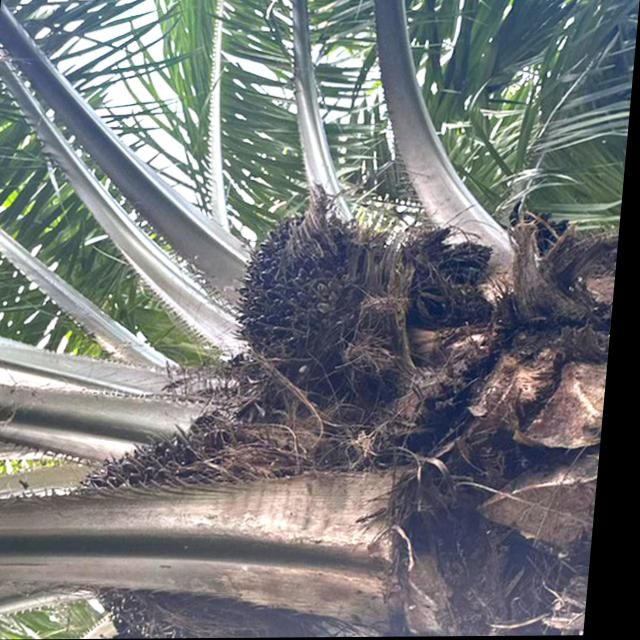unripe: (224, 195, 383, 392)
